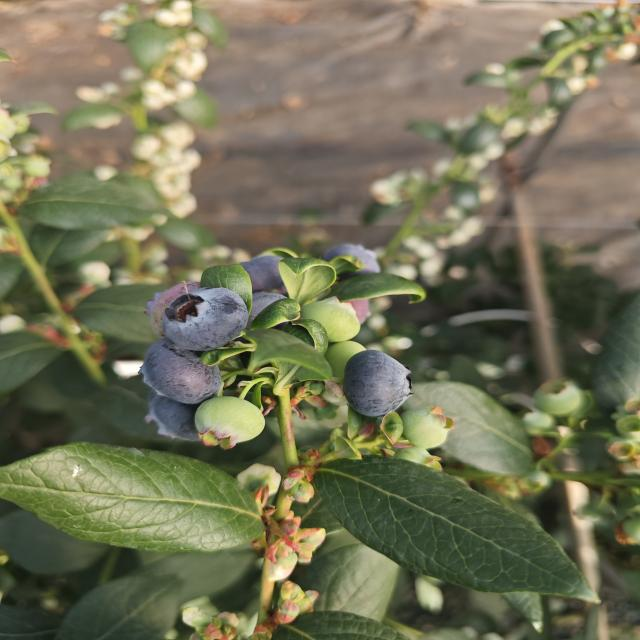ripe: (339, 345, 416, 418), (138, 342, 227, 403), (162, 290, 250, 350), (144, 392, 200, 444), (317, 238, 392, 274), (235, 256, 297, 291), (237, 290, 290, 319)
